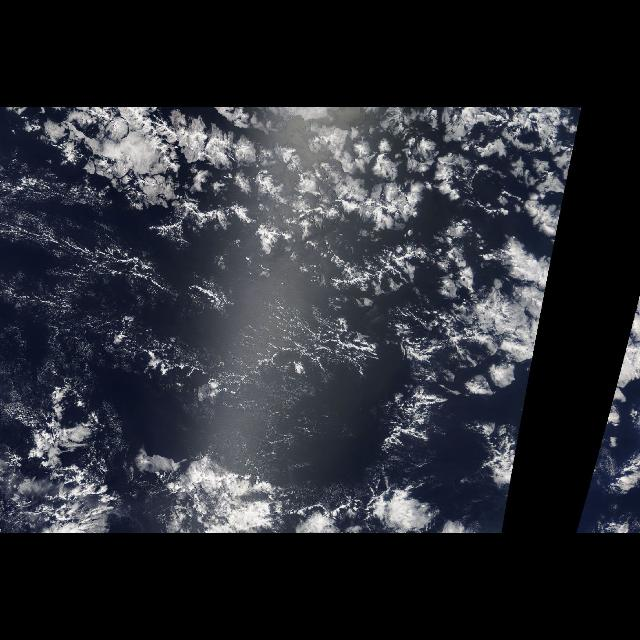Fish: (11, 256, 507, 416)
Flower: (6, 110, 582, 252)
